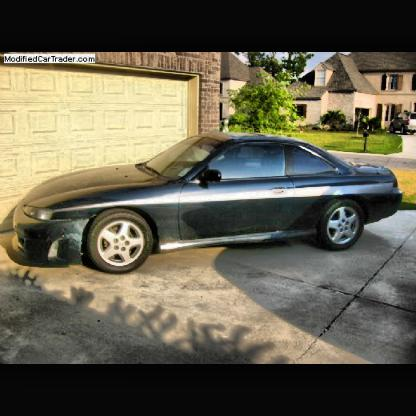Nissan 240SX Coupe 1998: (13, 130, 404, 276)
